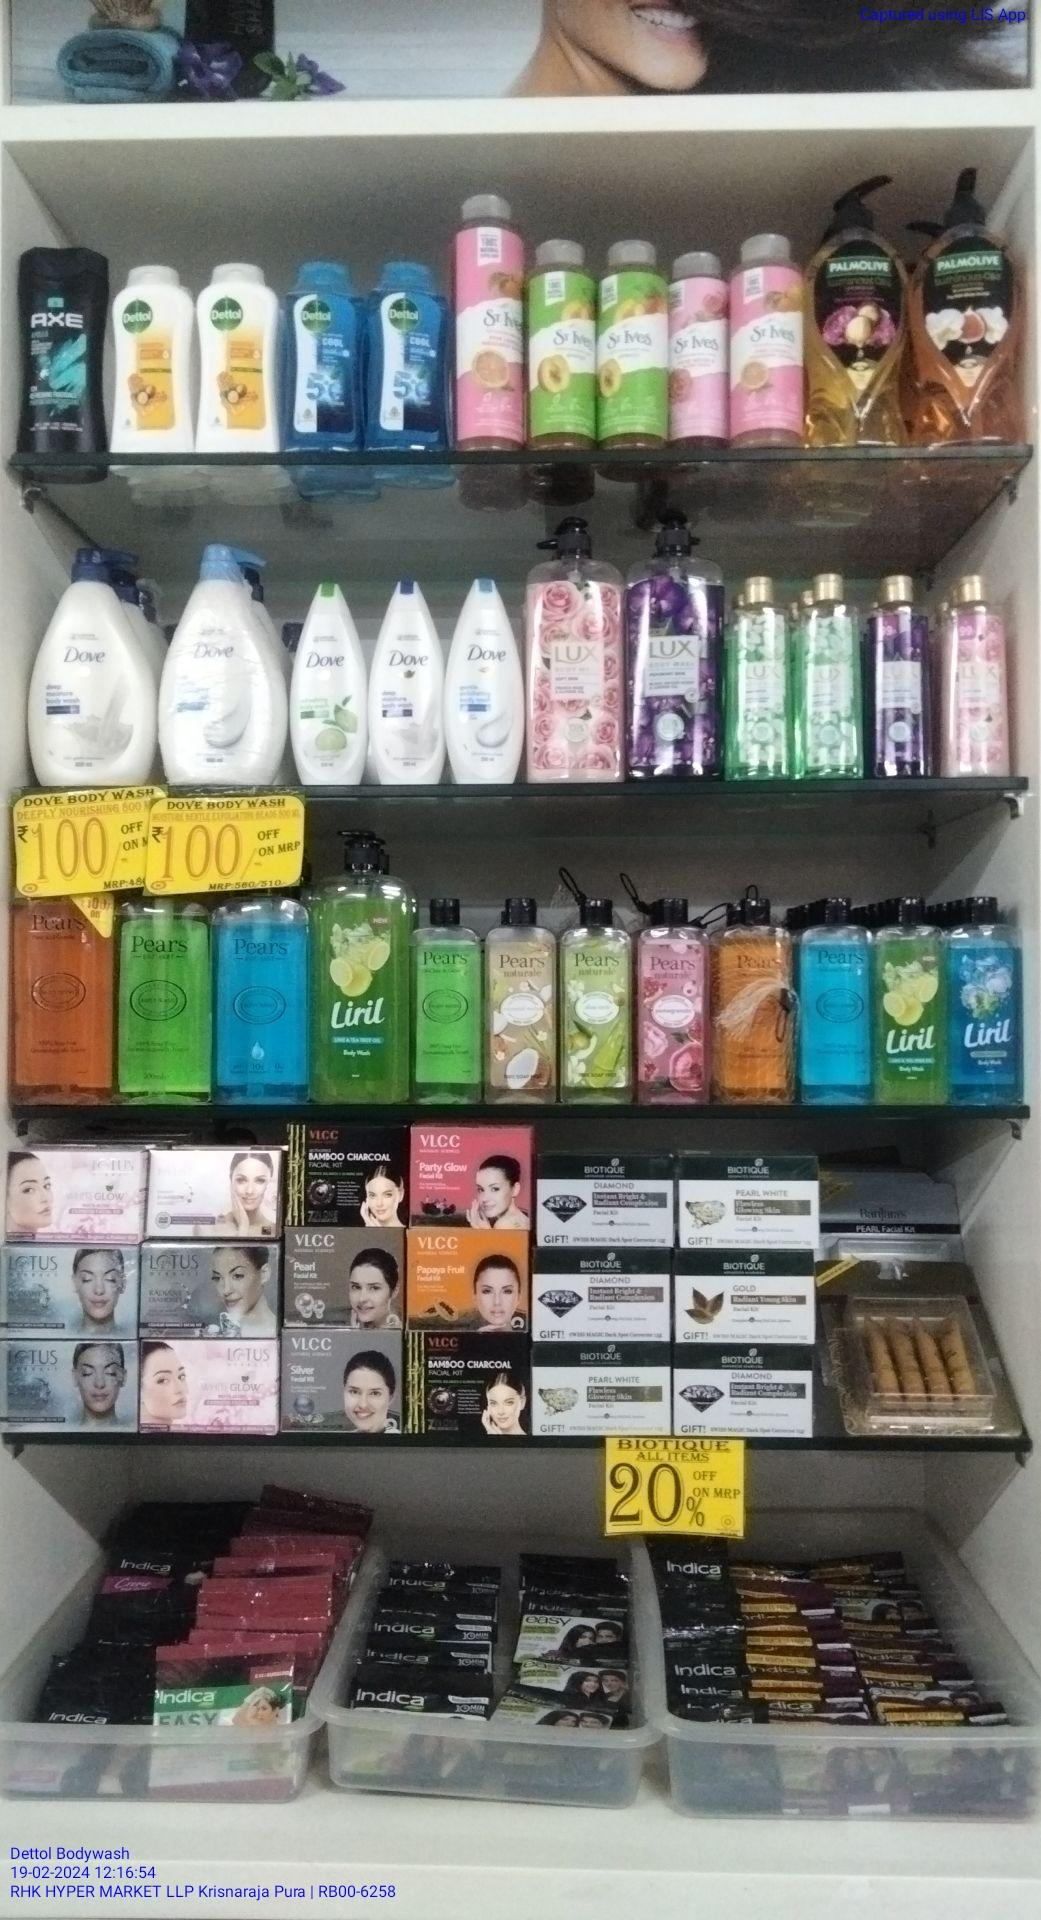Dettol_Bodywash_Cool: (364, 259, 446, 458), (286, 259, 368, 446)
Dove_Deep_Moisture_Body_Wash_250ML: (369, 578, 445, 786)
Dove_Gentle_Exfoliating_Body_Wash_250ML: (449, 579, 527, 779)
Dove_Refreshing_Body_Wash_250ML: (287, 579, 364, 786)
Lux_Black_Orchid_Scent_and_Juniper_Oil_Body_Wash_245ML: (876, 565, 932, 781)
Lux_Body_Wash_Skin_Detox_Freesia_Scent_and_Alove_Vera_245ML: (795, 570, 869, 784), (727, 578, 795, 775)
Pears_Pure_Glycerin_and_Lemon_Flower_Extracts_Body_Wash_250ML: (412, 897, 482, 1096)
